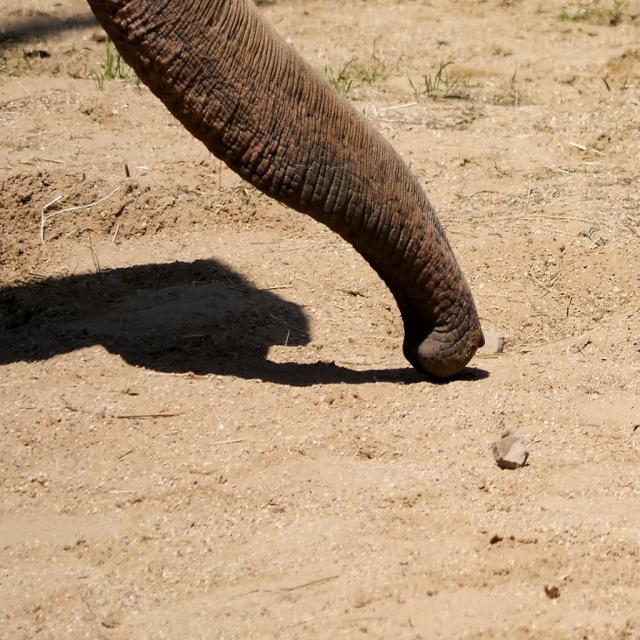Elephant: (52, 0, 487, 403)
